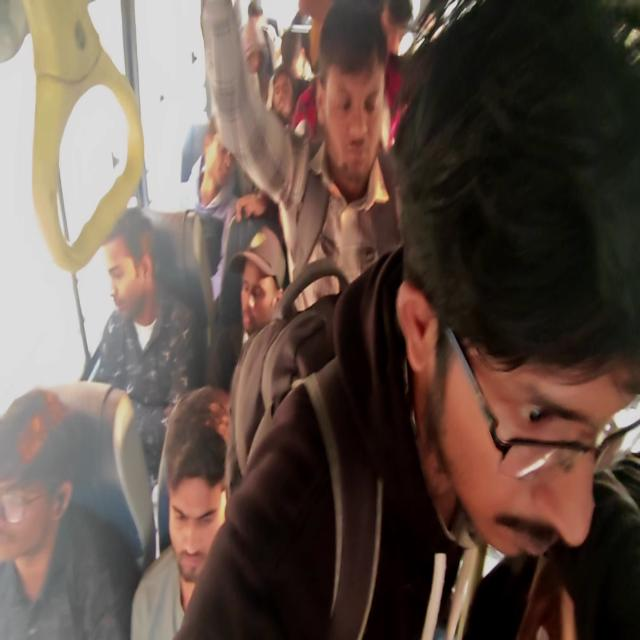person: (402, 19, 640, 640), (0, 400, 76, 578), (322, 24, 386, 221), (169, 400, 241, 548), (79, 218, 170, 332), (238, 250, 285, 350), (201, 123, 243, 201), (233, 16, 273, 91), (376, 0, 416, 62), (278, 72, 296, 146), (246, 1, 275, 32)
